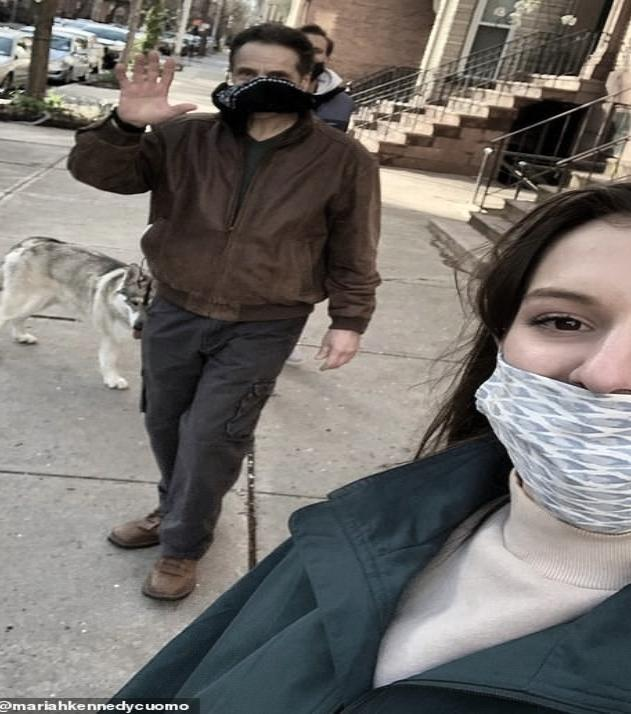mask_weared_incorrect: (471, 177, 630, 532)
